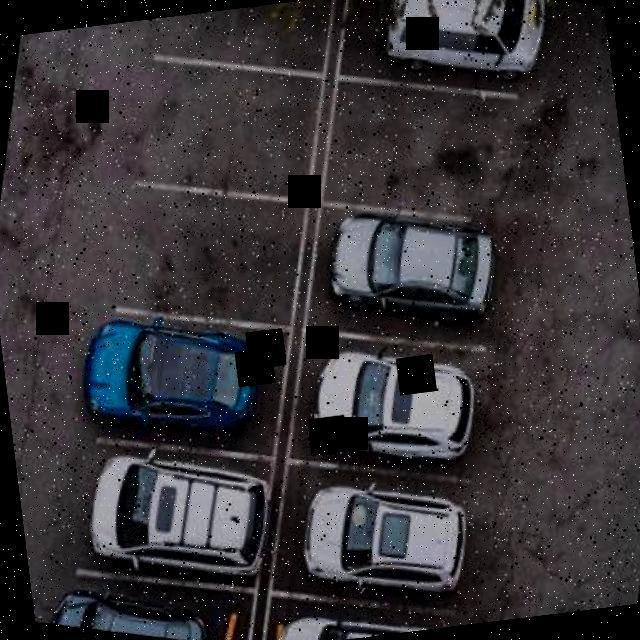space-empty: (314, 59, 542, 247), (126, 36, 330, 210), (120, 177, 316, 337), (155, 0, 341, 86)
space-occupied: (277, 300, 524, 512), (59, 421, 294, 610), (274, 450, 501, 630), (64, 276, 280, 455), (311, 186, 531, 357), (374, 0, 569, 108), (41, 556, 227, 640), (262, 575, 468, 640)
